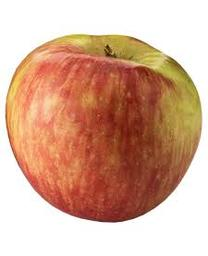apple: (5, 34, 203, 222)
